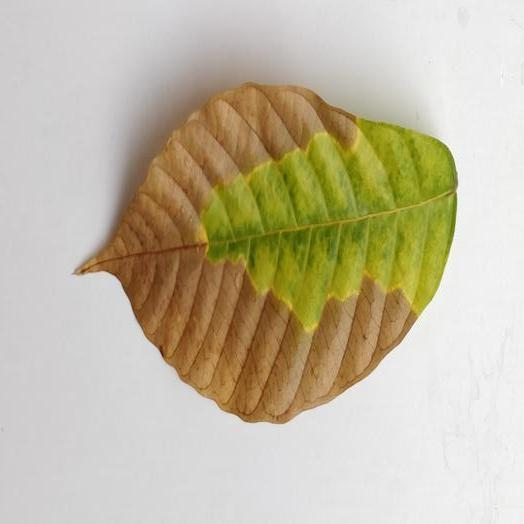Potassium: (79, 85, 456, 420)
